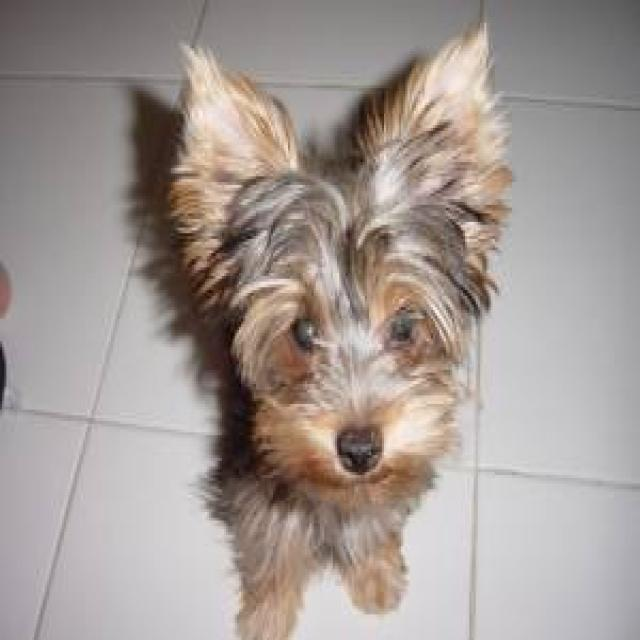dog-yorkshire_terrier: (160, 26, 516, 634)
